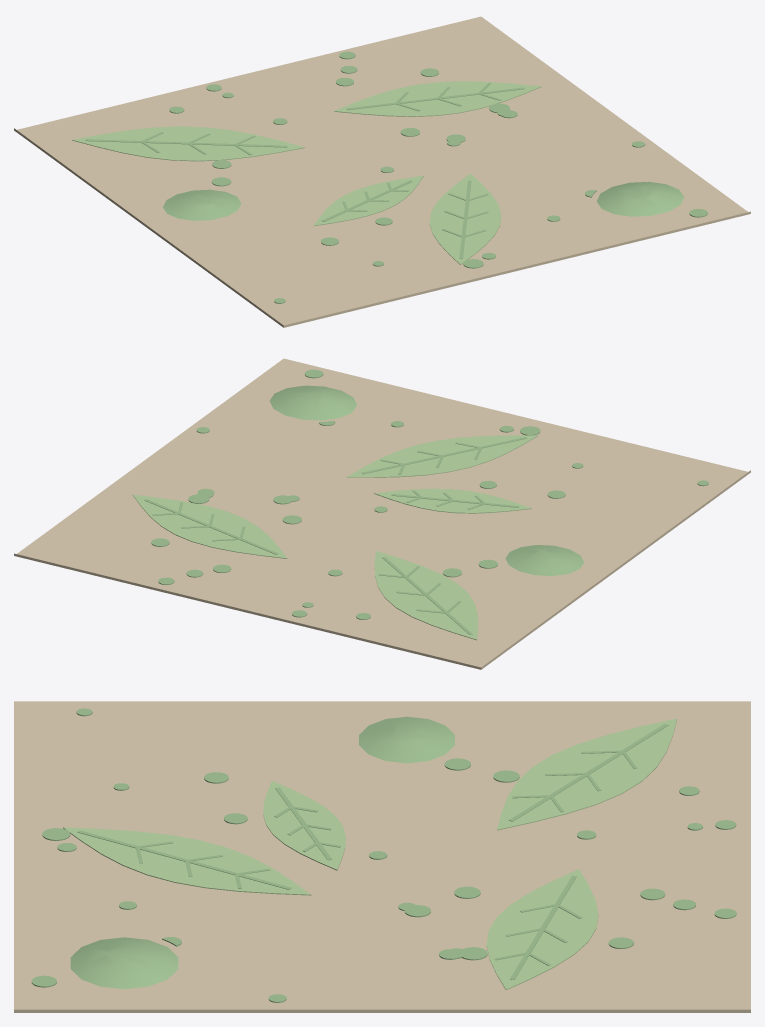
The picture shows the model from 3 angles, top to bottom: view 1: azimuth 30°, elevation 25°; view 2: azimuth 150°, elevation 25°; view 3: azimuth 270°, elevation 25°; orthographic projection. The views are drawn at different scales.
Visible parts, largest first — view 1: Safety_Pad, Leaf_Inlay, Vein_Inlay, Terrain; view 2: Safety_Pad, Leaf_Inlay, Vein_Inlay, Terrain; view 3: Safety_Pad, Leaf_Inlay, Vein_Inlay, Terrain.
Part boxes in pixels (left/top/right/bottom): Safety_Pad: left=14, top=16, right=750, bottom=327; Leaf_Inlay: left=72, top=81, right=541, bottom=264; Vein_Inlay: left=85, top=51, right=707, bottom=303; Terrain: left=163, top=181, right=683, bottom=220; Safety_Pad: left=14, top=358, right=750, bottom=669; Leaf_Inlay: left=133, top=435, right=538, bottom=640; Vein_Inlay: left=144, top=369, right=708, bottom=634; Terrain: left=269, top=385, right=583, bottom=575; Safety_Pad: left=14, top=701, right=750, bottom=1012; Leaf_Inlay: left=63, top=718, right=677, bottom=990; Vein_Inlay: left=31, top=708, right=736, bottom=1002; Terrain: left=70, top=716, right=454, bottom=989.
Size of what is drawn, in the model's own units: 6 by 0.1 by 6.
